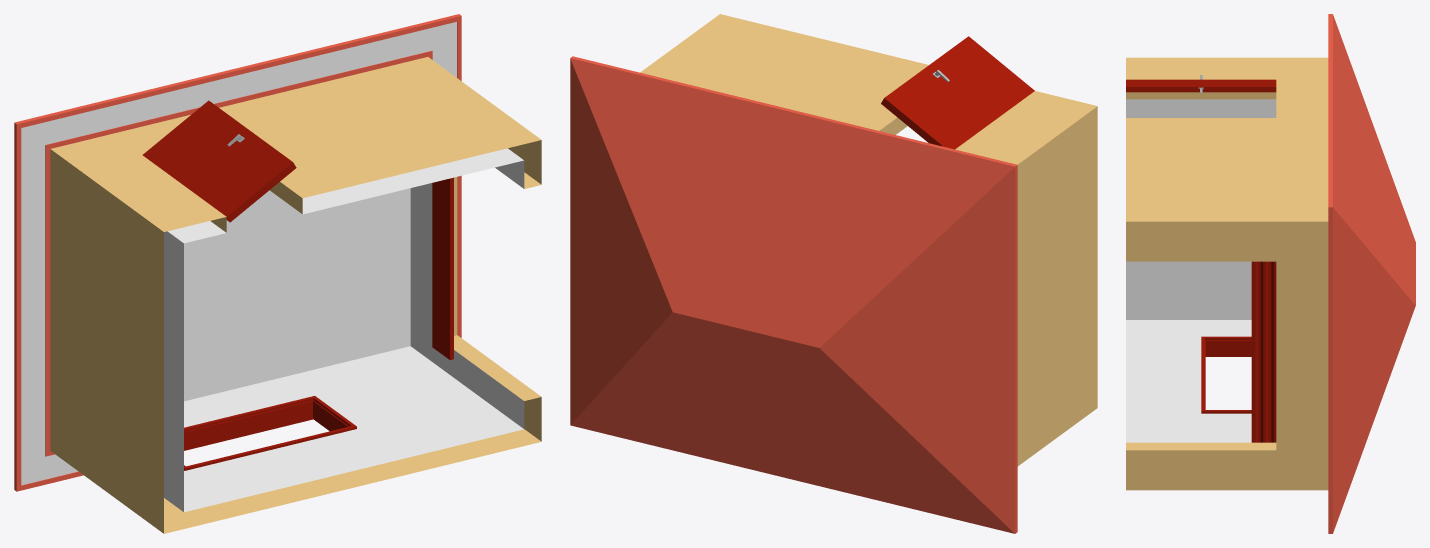
File: Garage.fbx
The picture shows the model from 3 angles, left to right: view 1: azimuth 30°, elevation 25°; view 2: azimuth 150°, elevation 25°; view 3: azimuth 270°, elevation 25°; orthographic projection. The views are drawn at different scales.
Parts seen in each view (by area): view 1: Cube; view 2: Cube; view 3: Cube.
Boxes of the visible parts, x1=… form: Cube: x1=14, y1=14, x2=541, y2=533; Cube: x1=570, y1=14, x2=1097, y2=533; Cube: x1=1126, y1=14, x2=1415, y2=533.
Size of the model in its own units: 14.38 by 11.52 by 9.12.
